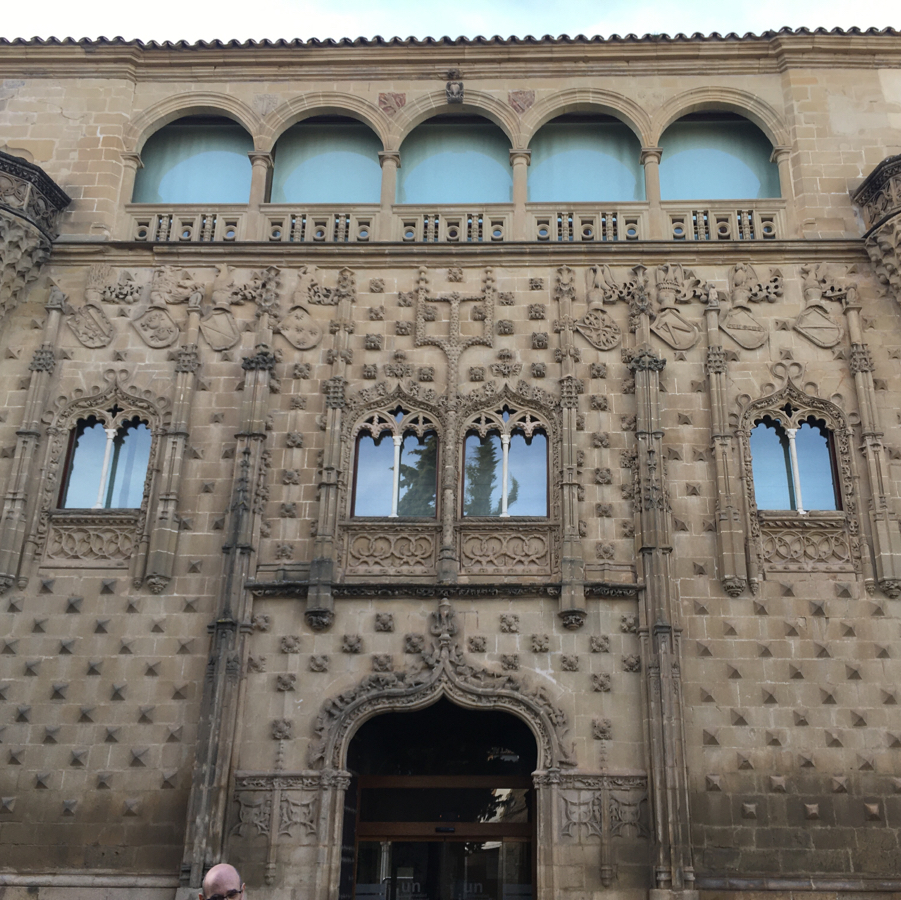arco-conopial: (331, 656, 562, 744), (734, 378, 848, 430), (56, 381, 167, 431), (452, 383, 555, 433), (344, 385, 446, 432)
arco-medio-punto: (649, 84, 786, 170), (519, 88, 651, 169), (259, 90, 387, 173), (131, 90, 258, 172), (389, 91, 517, 170)
